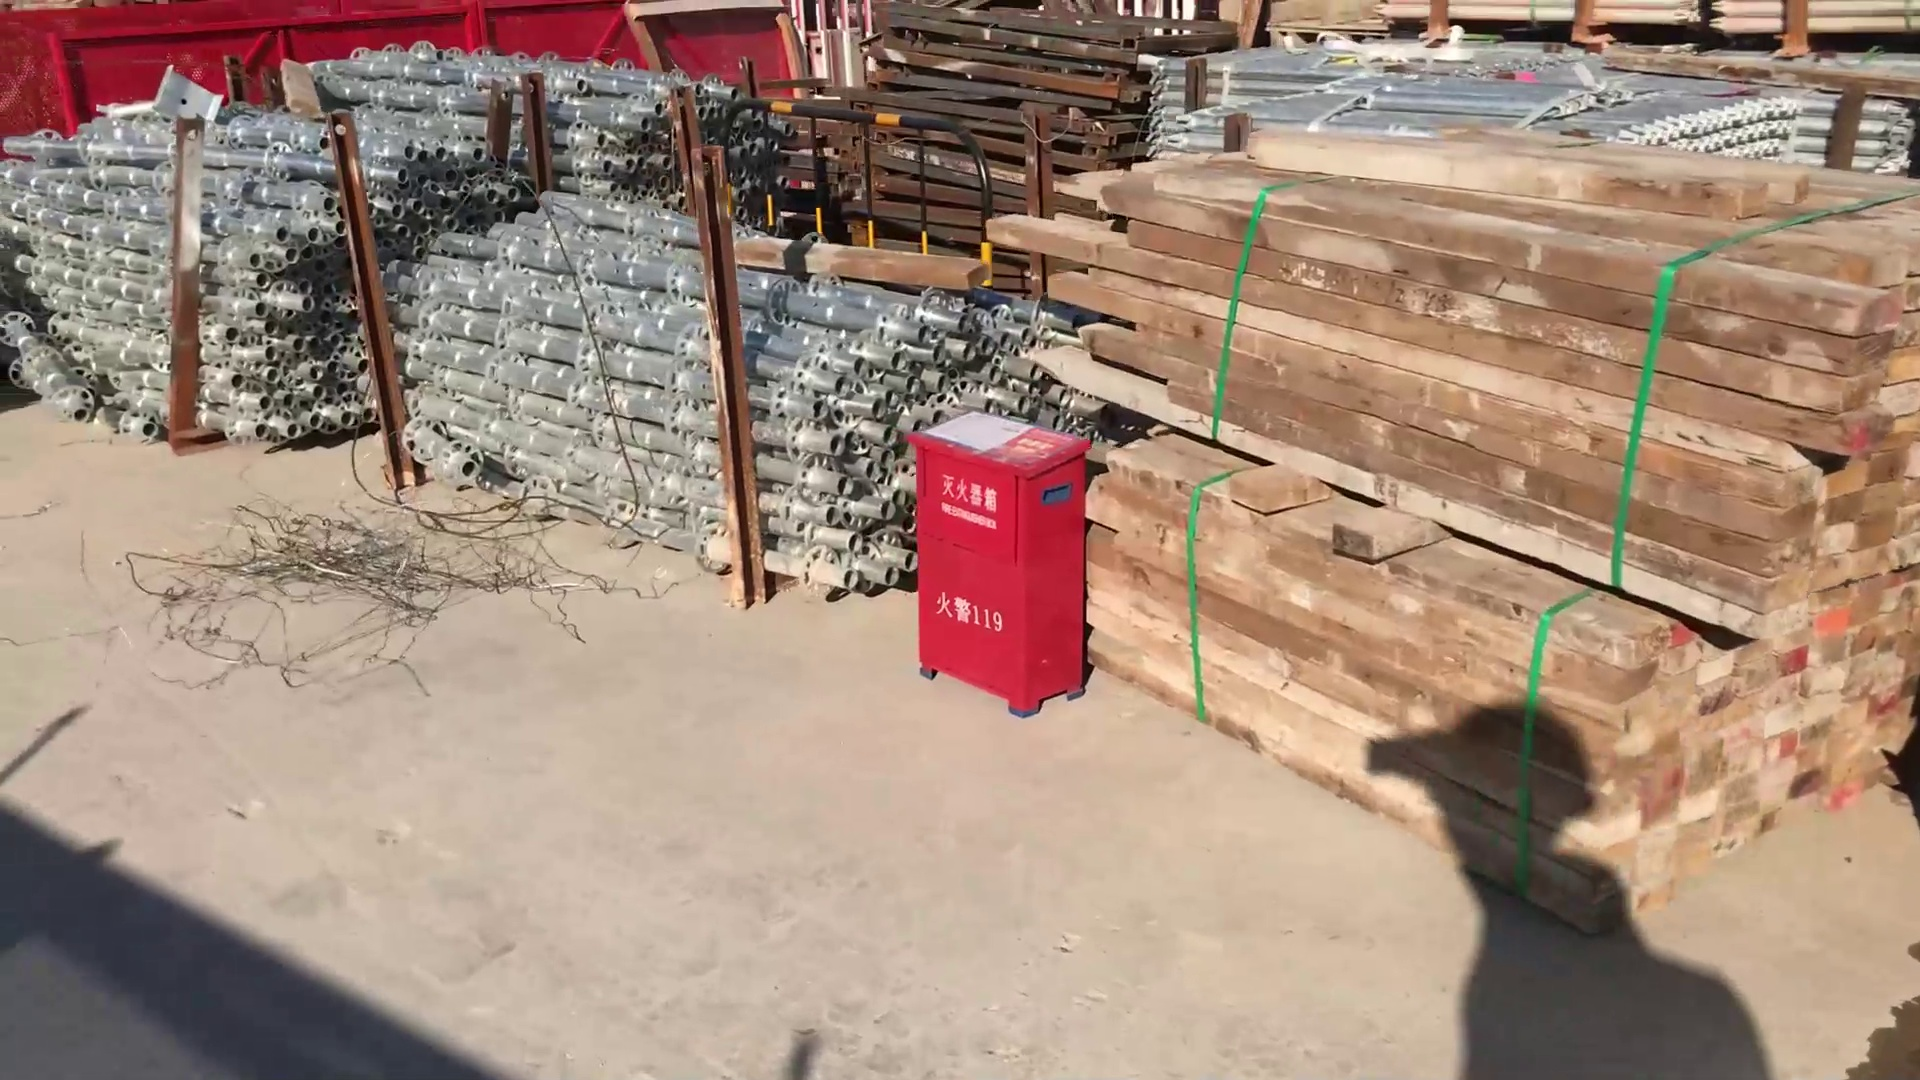fence: (723, 94, 996, 253)
rebar: (862, 11, 1138, 193)
scaffold: (448, 211, 916, 604), (28, 104, 433, 458), (1113, 70, 1865, 162), (375, 38, 705, 189)
wood: (1077, 124, 1920, 905)
